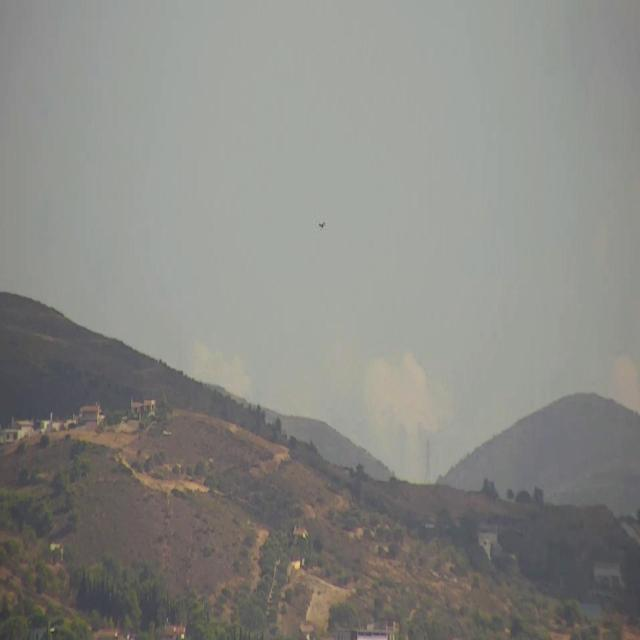drone: (317, 217, 327, 235)
